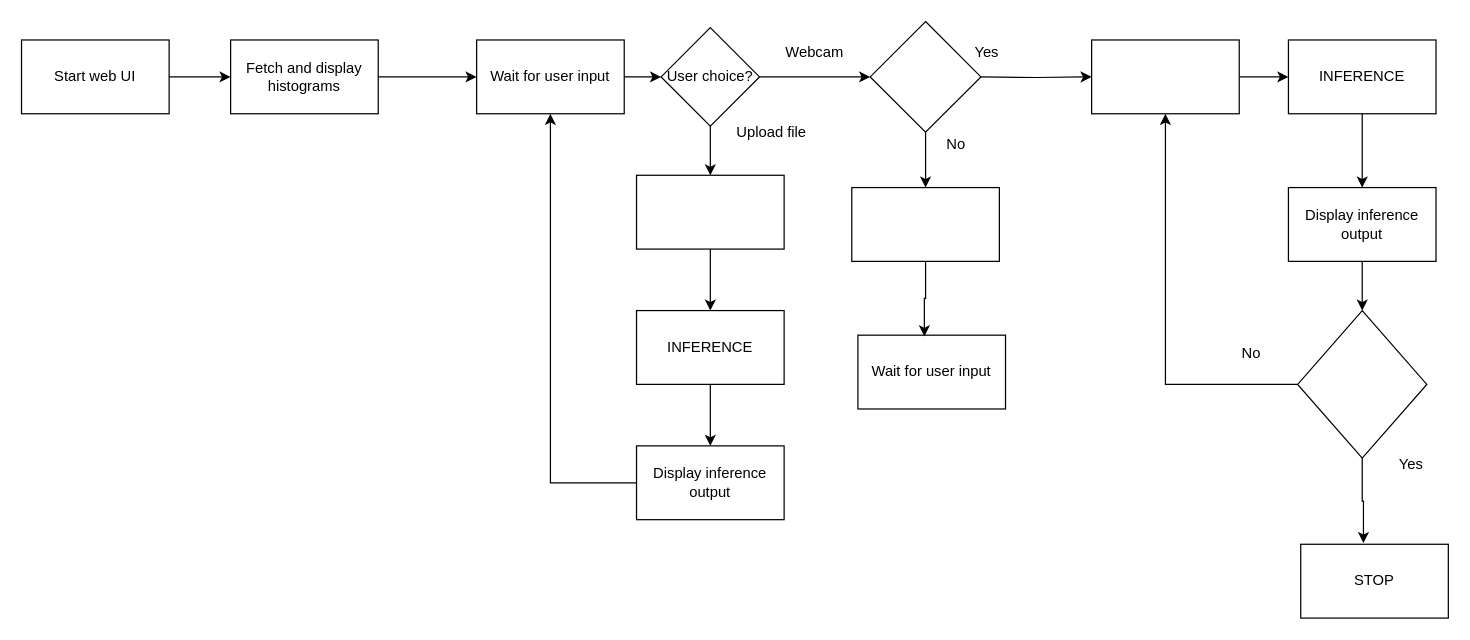
The diagram is 1470 pixels wide and 640 high, and some of its shapes have lost their labels. Here are the shapes that lost their labels. From the top down, the box of each, then its label:
(869, 20, 981, 132): Camera present?
(1090, 39, 1239, 114): Get image from camera
(635, 174, 784, 249): Load file from computer
(851, 186, 999, 261): Display error frame
(1296, 309, 1427, 458): Web UI stopped?
